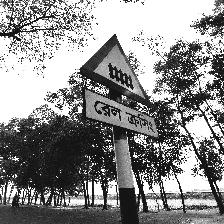Rail-crossing: (79, 32, 160, 141)
